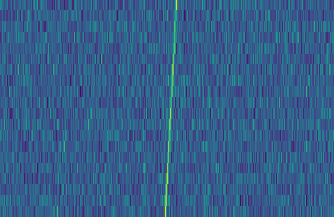signal: (161, 0, 180, 217)
